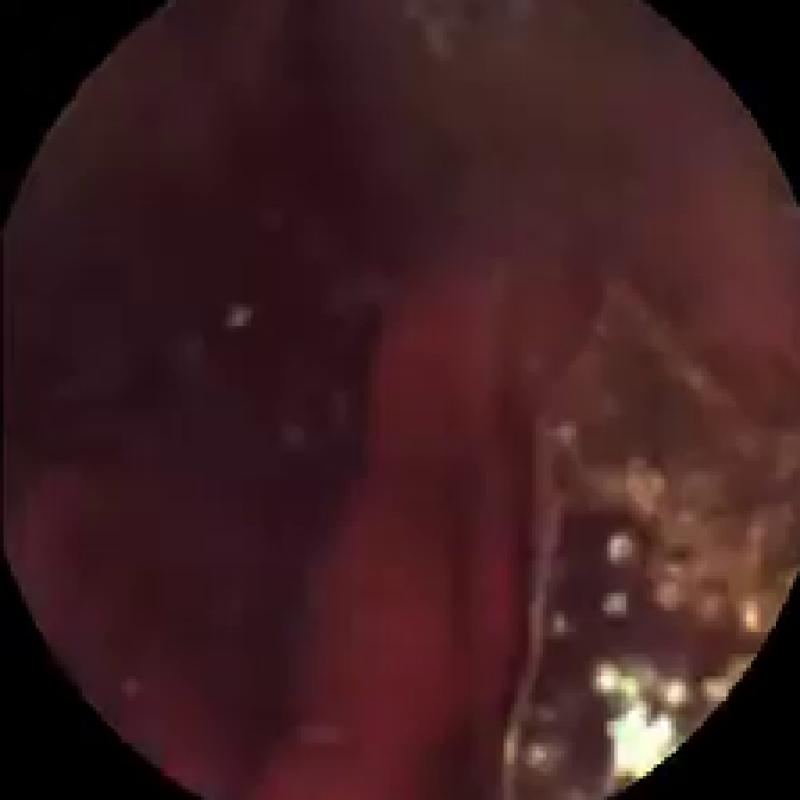bleeding: (18, 271, 539, 800)
